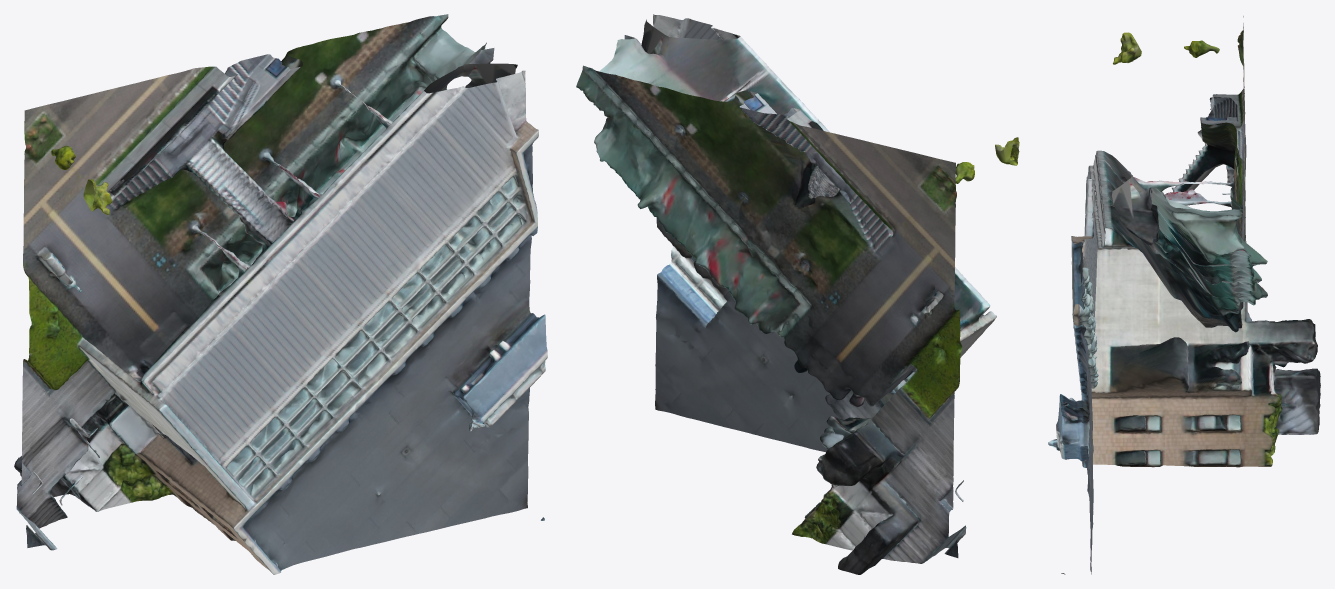
File: Tile_+014_+023.fbx
3 renders of one model, left to right at view 1: azimuth 30°, elevation 25°; view 2: azimuth 150°, elevation 25°; view 3: azimuth 270°, elevation 25°, orthographic. The views are drawn at different scales.
Parts seen in each view (by area): view 1: DefaultName; view 2: DefaultName; view 3: DefaultName.
Part boxes in pixels (x1,y1,x2,y2): DefaultName: (14, 14, 547, 574); DefaultName: (576, 14, 1019, 574); DefaultName: (1048, 16, 1320, 574).
Size of the model in its own units: 22.54 by 22.54 by 14.56.
